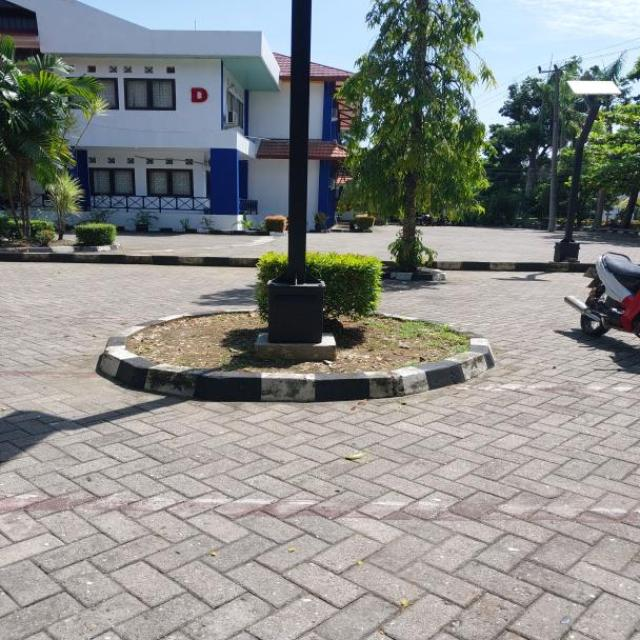electric pole ahead at: (267, 1, 340, 330)
